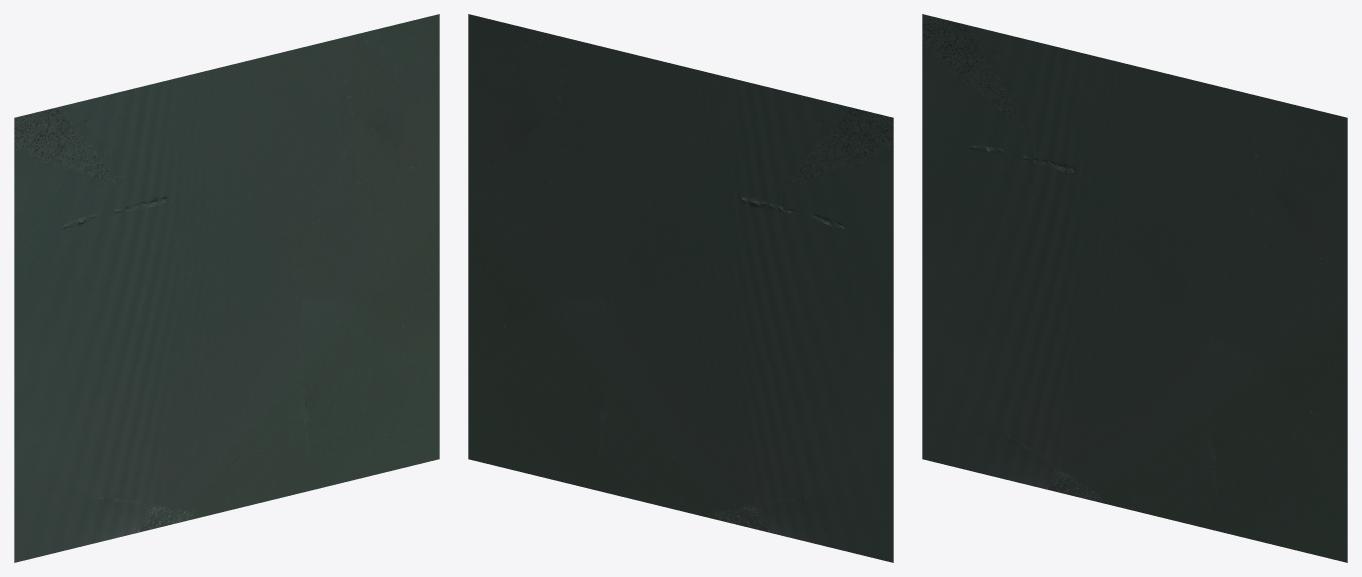
File: Tile_+1998_+2683.obj
3 views of the same model, side by side, from view 1: azimuth 30°, elevation 25°; view 2: azimuth 150°, elevation 25°; view 3: azimuth 330°, elevation 25° (orthographic).
Size of the model in its own units: 252 by 252 by 1.52.
Materials: 1 (1 with a texture image).
